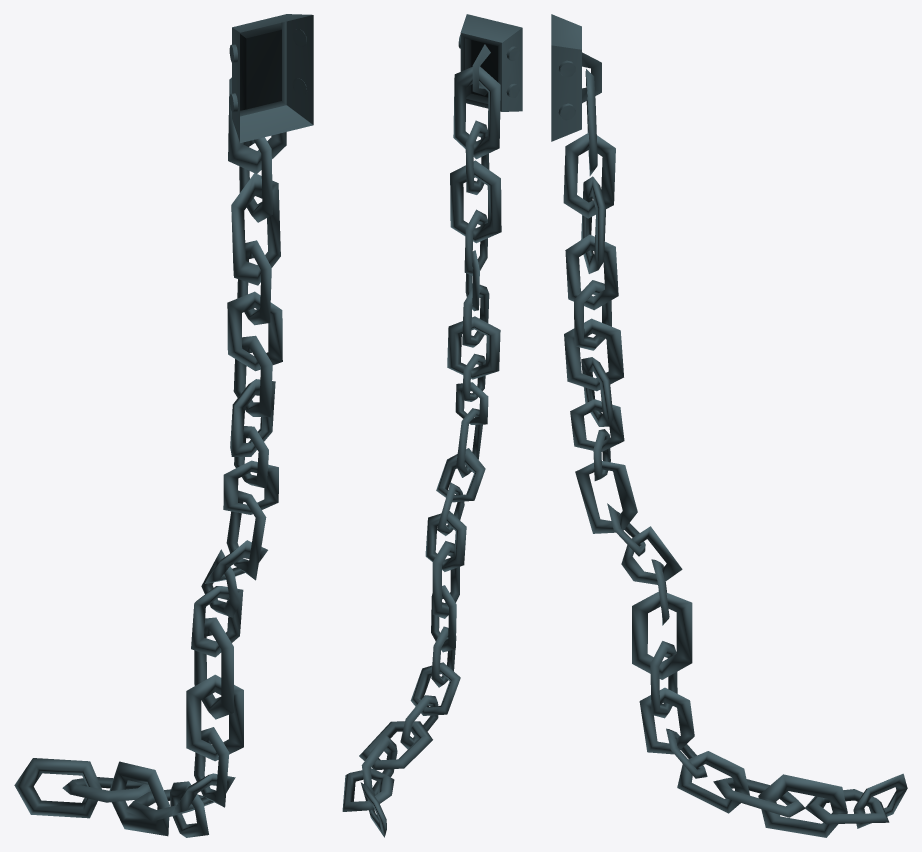
File: obj_chain_hang_A_LOW.FBX
3 renders of one model, left to right at view 1: azimuth 30°, elevation 25°; view 2: azimuth 150°, elevation 25°; view 3: azimuth 270°, elevation 25°, orthographic. The views are drawn at different scales.
Parts seen in each view (by area): view 1: obj_chain_hang_A_LOW; view 2: obj_chain_hang_A_LOW; view 3: obj_chain_hang_A_LOW.
Boxes of the visible parts, x1,y1,x2,y2 form: obj_chain_hang_A_LOW: [14, 14, 313, 837]; obj_chain_hang_A_LOW: [342, 14, 522, 837]; obj_chain_hang_A_LOW: [551, 14, 907, 837].
Bounding box in the file's own units: 0.4293 × 3.72 × 1.49.
